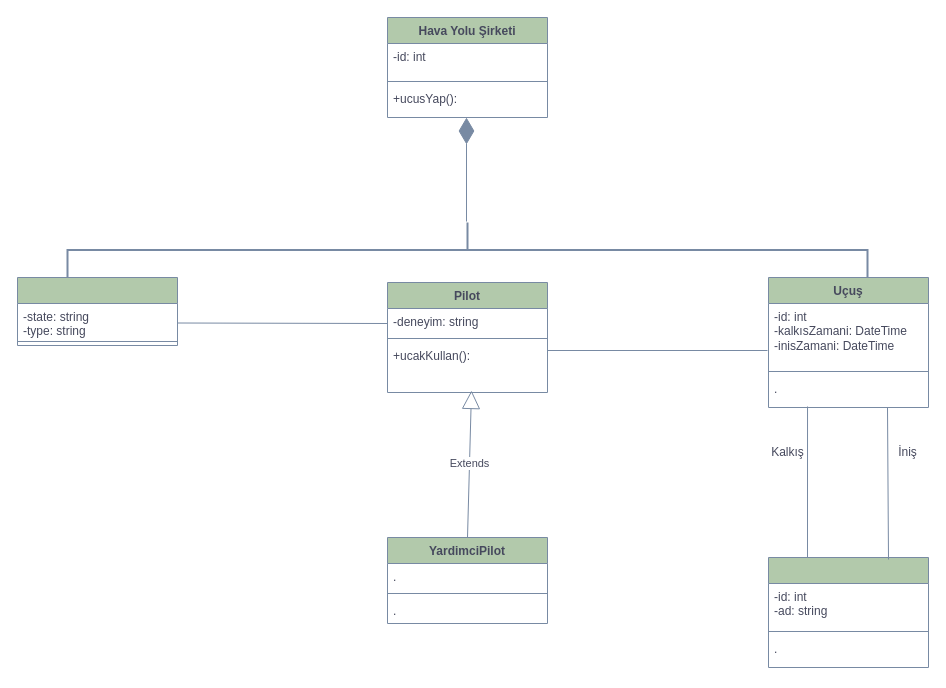
Image size: 946x688. Some labels were removed from this diagram. Here are the shapes that lost their labels. From the top down, the box of each, then its label:
(16, 276, 178, 346): Uçak
(768, 556, 928, 668): Havaalanı
